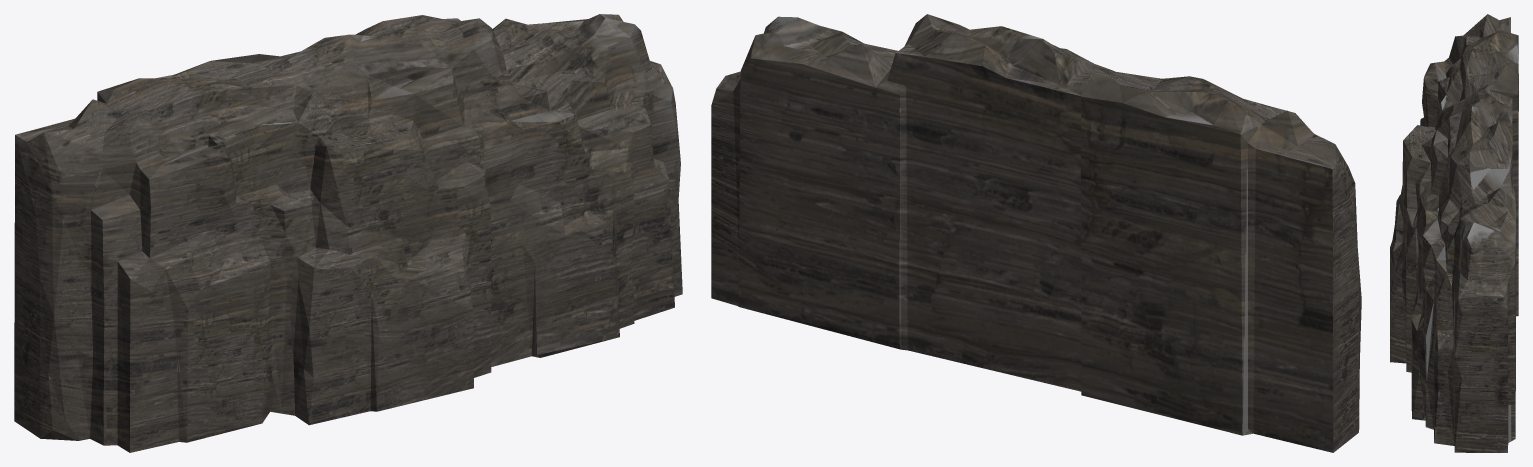
File: Cliff Texture Paint.fbx
3 renders of one model, left to right at view 1: azimuth 30°, elevation 25°; view 2: azimuth 150°, elevation 25°; view 3: azimuth 270°, elevation 25°, orthographic. The views are drawn at different scales.
Visible parts, largest first — view 1: Cube; view 2: Cube; view 3: Cube.
Part boxes in pixels (box(x1,y1,x2,y2)): Cube: box(14, 14, 682, 452); Cube: box(711, 14, 1361, 452); Cube: box(1390, 14, 1518, 452).
Size of the model in its own units: 1696 by 837 by 408.
1 material, 1 textured.
